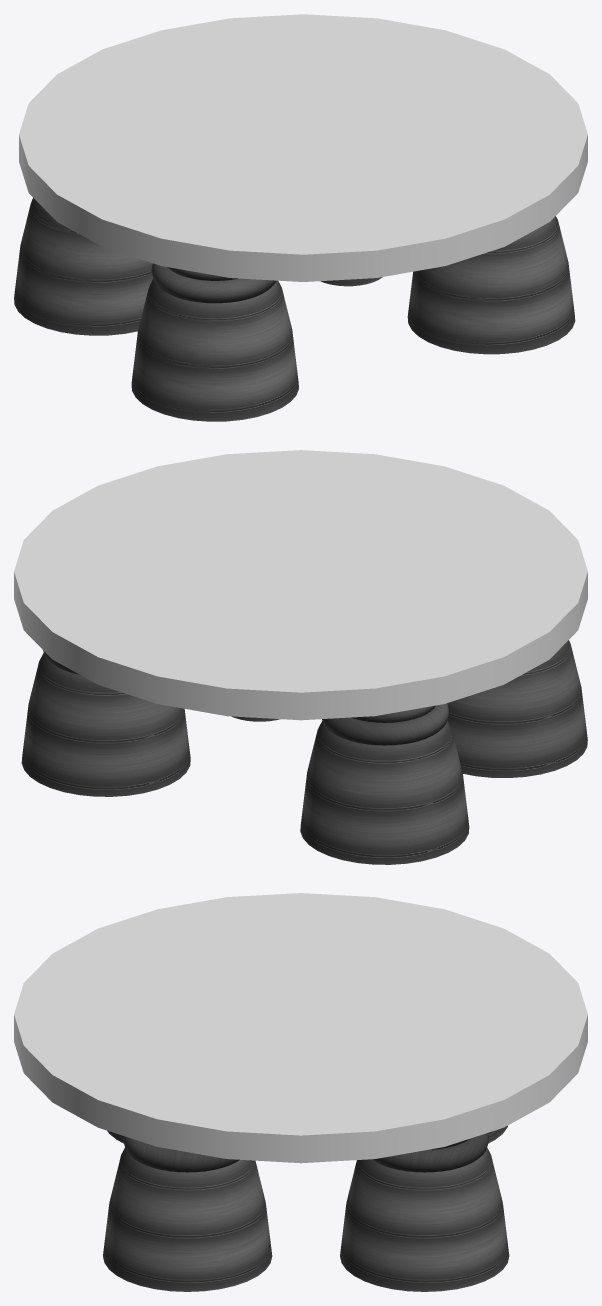
The model's file is Titanengineclustertop.fbx.
3 renders of one model, top to bottom at view 1: azimuth 30°, elevation 25°; view 2: azimuth 150°, elevation 25°; view 3: azimuth 270°, elevation 25°, orthographic.
Visible parts, largest first — view 1: Cylinder.002, Cone.002, Cone.003, Cone.001; view 2: Cylinder.002, Cone.001, Cone, Cone.002; view 3: Cylinder.002, Cone, Cone.003.
Boxes of the visible parts, left/top/right/bottom form: Cylinder.002: left=19, top=14, right=587, bottom=281; Cone.002: left=131, top=263, right=298, bottom=421; Cone.003: left=407, top=216, right=575, bottom=354; Cone.001: left=14, top=198, right=153, bottom=335; Cylinder.002: left=14, top=450, right=587, bottom=720; Cone.001: left=300, top=703, right=469, bottom=864; Cone: left=21, top=650, right=190, bottom=796; Cone.002: left=447, top=640, right=587, bottom=777; Cylinder.002: left=14, top=893, right=587, bottom=1163; Cone: left=340, top=1133, right=509, bottom=1291; Cone.003: left=103, top=1136, right=272, bottom=1291.
Size of what is drawn, in the model's own units: 678 by 231 by 678.
6 materials, 6 textured.
